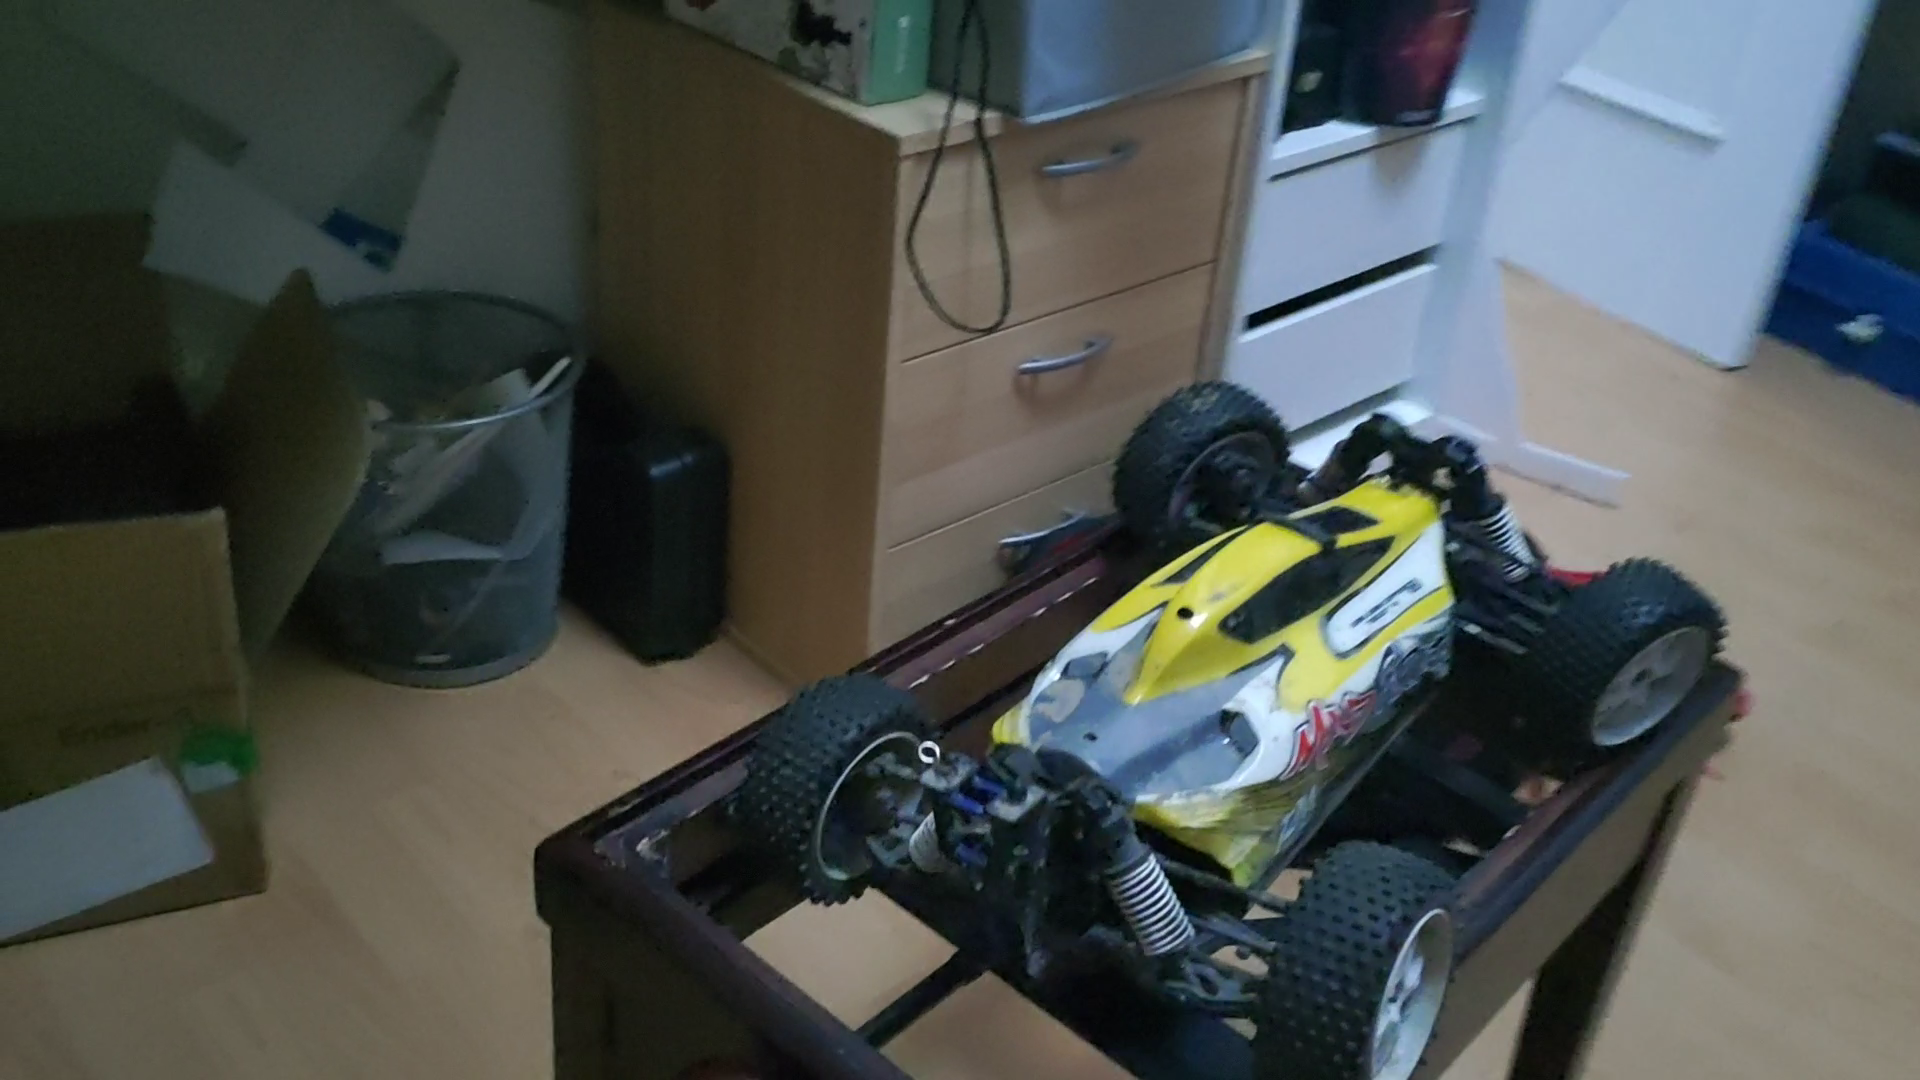buggy: (746, 384, 1731, 1080)
